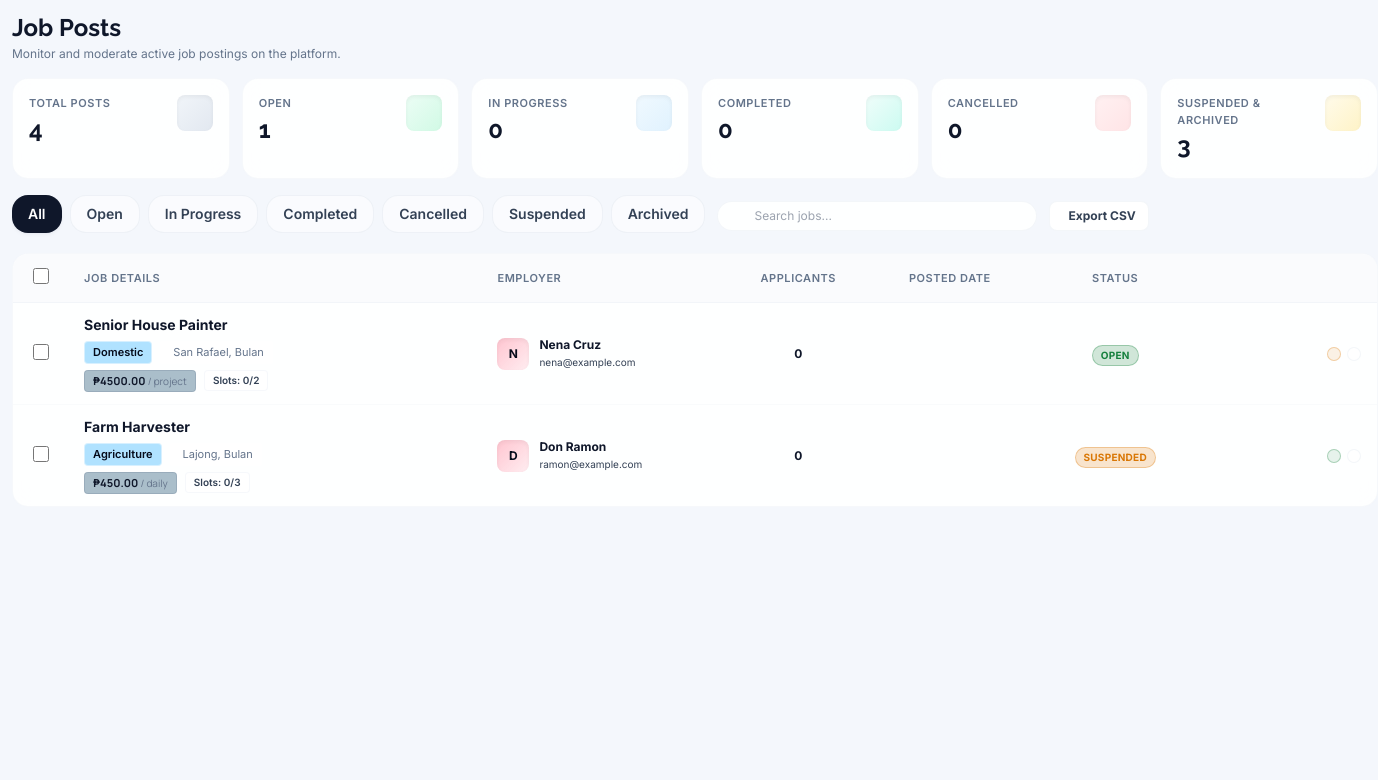
Test: JobsPage Component › only displays applicable bulk actions when selecting jobs
This screenshot has width=1378, height=780.
Check: the text "Senior House Painter" is shown, box [84,315,228,335]
Check: the text "Farm Harvester" is shown, box [84,417,190,437]
# Select open job (id: 1, status: 'open')
Step 1. Click the checkbox named "select job senior house painter" → (40, 352), box [32,344,48,360]
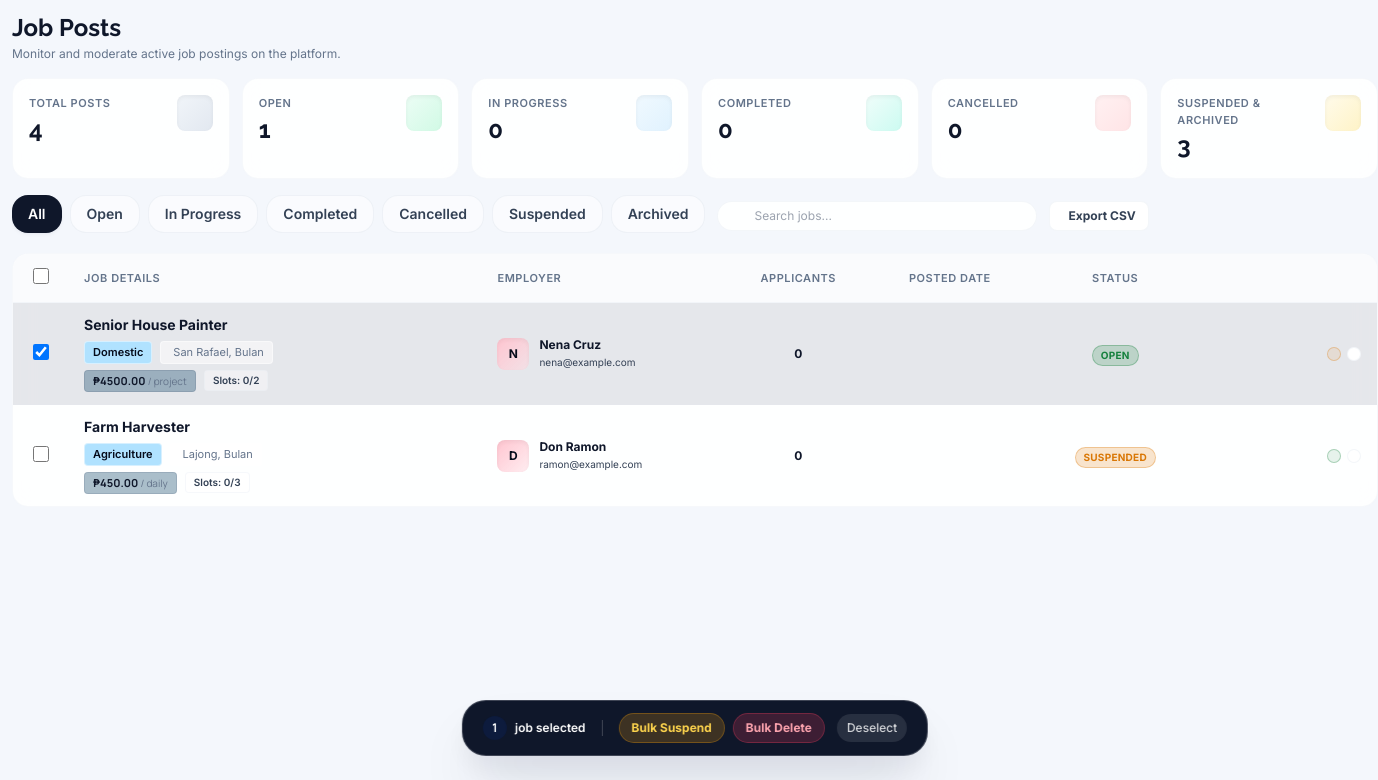
Check: the text "job selected" is shown, box [515,720,586,736]
Check: the button "Bulk Suspend" is shown, box [618,713,725,743]
Check: the button "Bulk Delete" is shown, box [733,713,825,743]
# Deselect open job
Step 2. Click the checkbox named "select job senior house painter" → (40, 352), box [32,344,48,360]
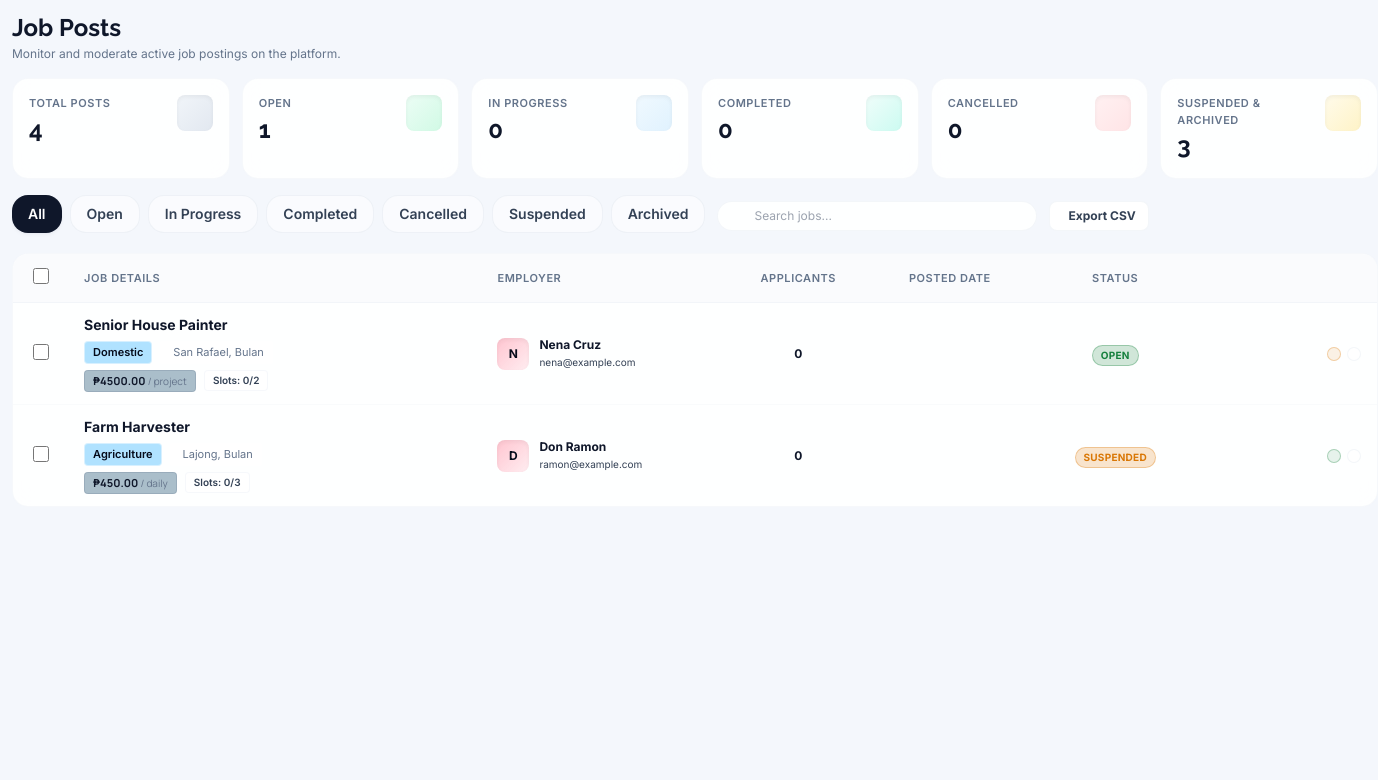
Check: the text "job selected" is gone
# Select suspended job (id: 2, status: 'suspended')
Step 3. Click the checkbox named "select job farm harvester" → (40, 454), box [32,446,48,462]
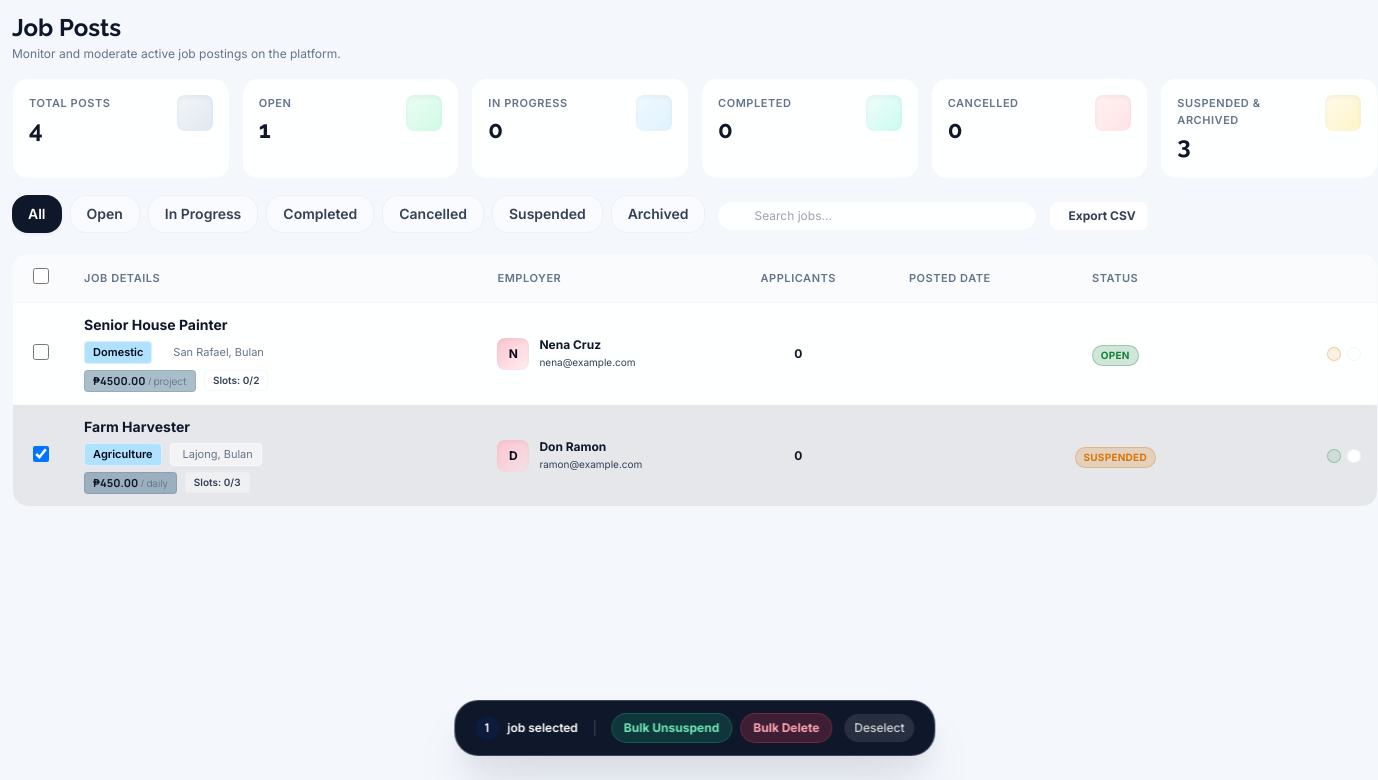
Check: the text "job selected" is shown, box [507,720,578,736]
Check: the button "Bulk Unsuspend" is shown, box [611,713,732,743]
Check: the button "Bulk Delete" is shown, box [740,713,832,743]
